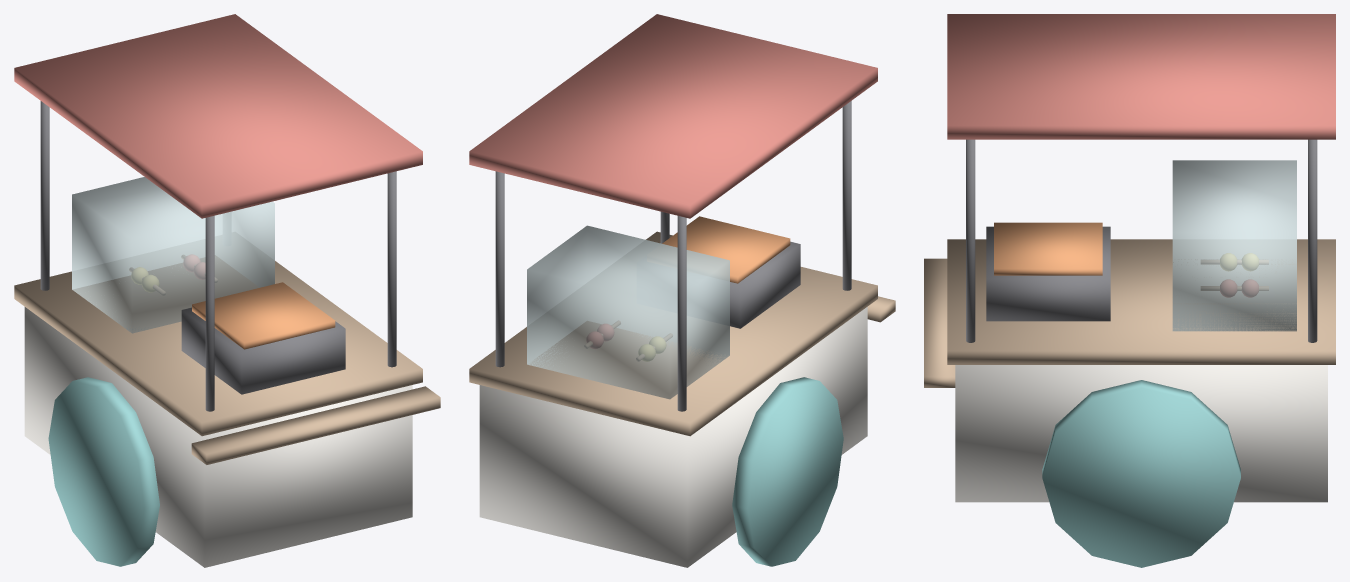
File: street_food_cart.glb
3 views of the same model, side by side, from view 1: azimuth 30°, elevation 25°; view 2: azimuth 150°, elevation 25°; view 3: azimuth 270°, elevation 25° (orthographic). The views are drawn at different scales.
Visible parts, largest first — view 1: cart_canopy, cart_body, cart_table, showcase_glass, cart_wheel_l, grill_base, cart_handle, charcoal, pole_rl, pole_rr, pole_fl; view 2: cart_canopy, cart_body, showcase_glass, cart_table, cart_wheel_l, charcoal, grill_base, pole_fr, pole_fl, pole_rl, cart_handle; view 3: cart_canopy, cart_body, cart_wheel_r, cart_table, showcase_glass, grill_base, charcoal, cart_handle, pole_fr, pole_rr.
Part boxes in pixels (bbox=[...]): cart_canopy: bbox=[14, 14, 422, 218]; cart_body: bbox=[24, 307, 412, 567]; cart_table: bbox=[14, 255, 422, 436]; showcase_glass: bbox=[72, 177, 274, 333]; cart_wheel_l: bbox=[48, 377, 159, 566]; grill_base: bbox=[181, 307, 345, 394]; cart_handle: bbox=[191, 386, 440, 464]; charcoal: bbox=[192, 282, 335, 349]; pole_rl: bbox=[205, 215, 214, 411]; pole_rr: bbox=[387, 171, 396, 367]; pole_fl: bbox=[40, 101, 49, 290]; cart_canopy: bbox=[469, 14, 877, 218]; cart_body: bbox=[479, 307, 867, 567]; showcase_glass: bbox=[527, 225, 729, 399]; cart_table: bbox=[469, 231, 877, 436]; cart_wheel_l: bbox=[732, 377, 843, 566]; charcoal: bbox=[662, 216, 790, 283]; grill_base: bbox=[730, 241, 800, 328]; pole_fr: bbox=[495, 171, 504, 367]; pole_fl: bbox=[677, 216, 686, 411]; pole_rl: bbox=[842, 101, 851, 290]; cart_handle: bbox=[867, 296, 895, 322]; cart_canopy: bbox=[947, 14, 1335, 139]; cart_body: bbox=[955, 365, 1327, 502]; cart_wheel_r: bbox=[1042, 380, 1240, 567]; cart_table: bbox=[947, 239, 1335, 364]; showcase_glass: bbox=[1172, 160, 1296, 331]; grill_base: bbox=[986, 226, 1110, 321]; charcoal: bbox=[994, 222, 1102, 275]; cart_handle: bbox=[924, 258, 955, 387]; pole_fr: bbox=[1308, 139, 1317, 342]; pole_rr: bbox=[966, 139, 975, 342].
Bounding box in the file's own units: 0.94 × 1.55 × 1.32.
